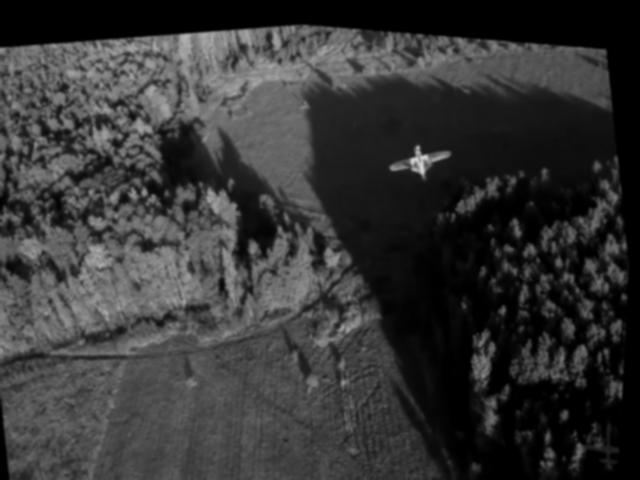hedef: (384, 122, 456, 184)
